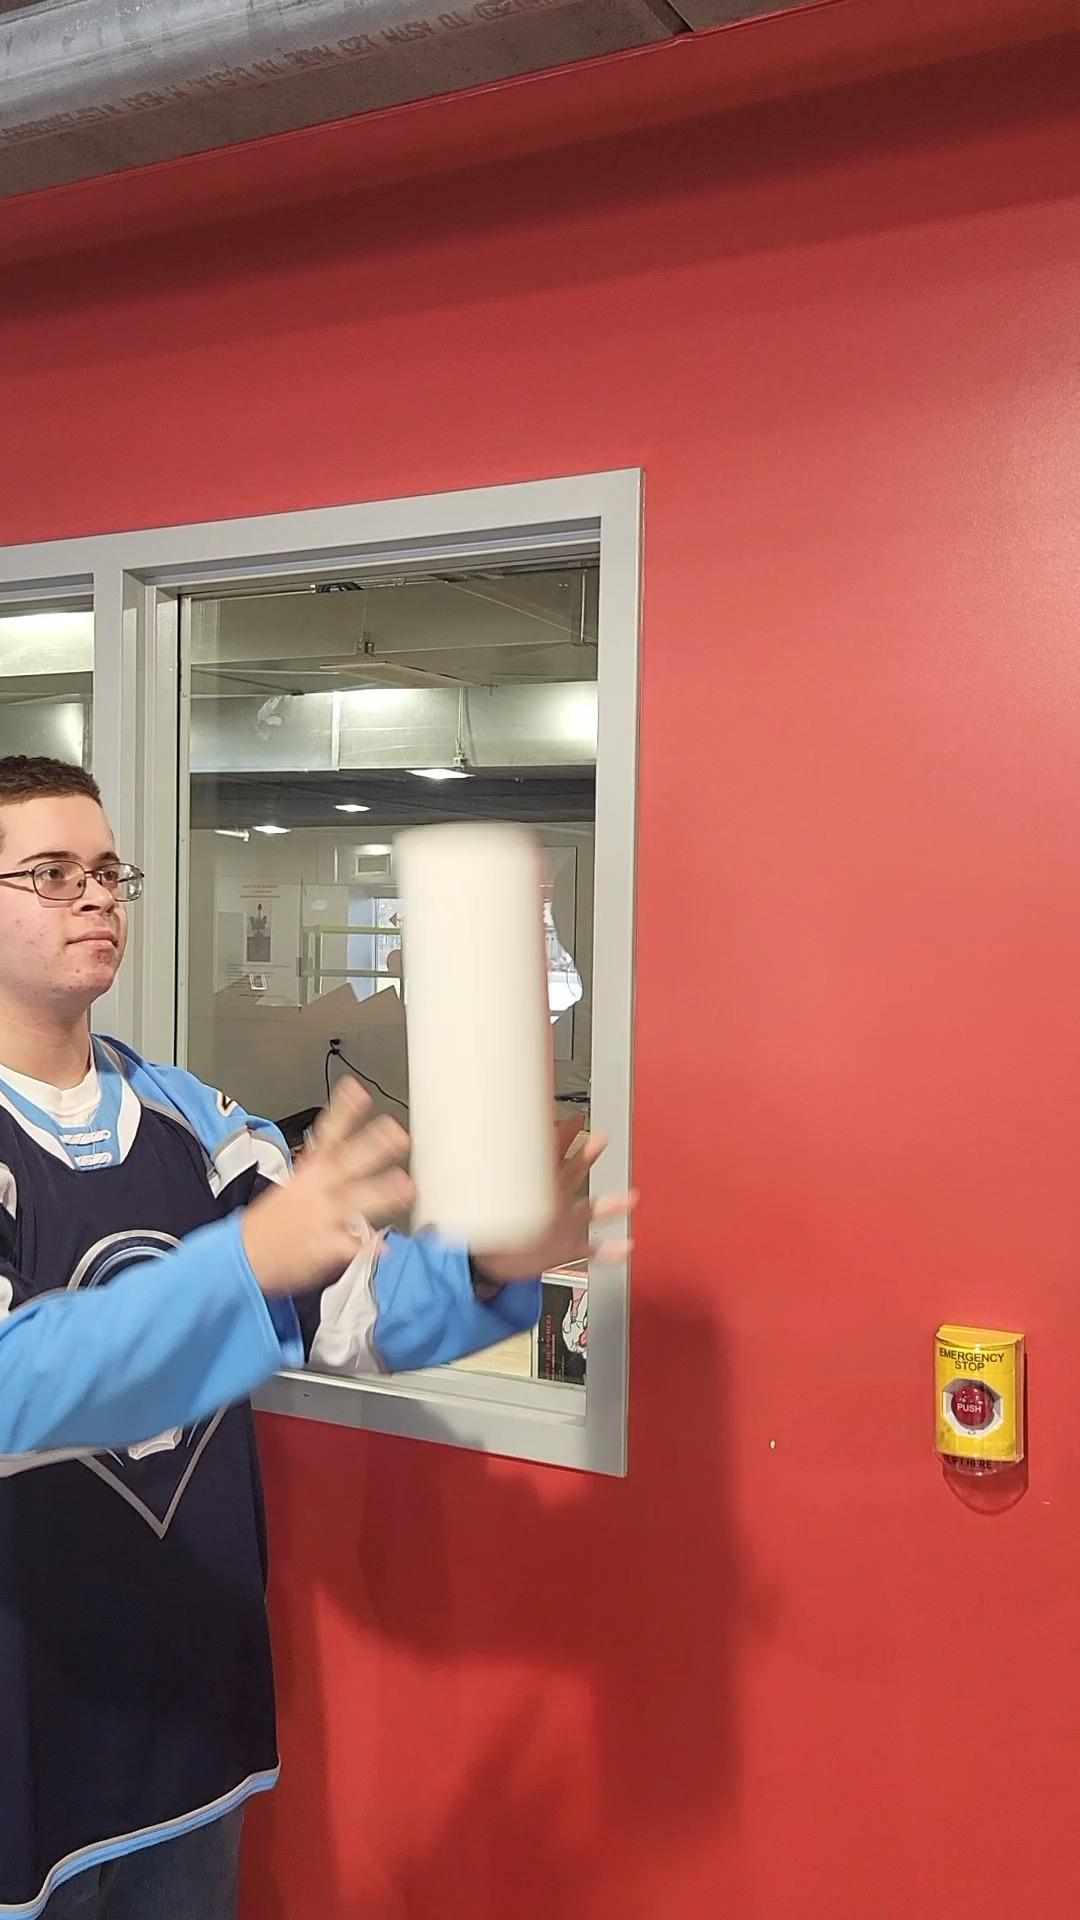coral: (386, 818, 574, 1263)
